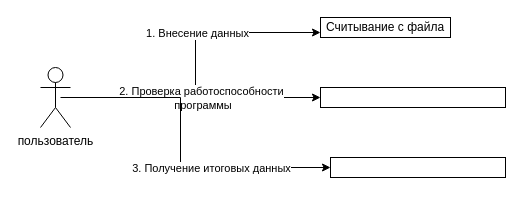
This 523x203 diagram has some shape labels left out. Here are the shapes that lost their labels. From the top down, the centre of each, then its label:
At point 413,97: "Нахождение критического пути".
At point 418,167: "Занесение результата в файл".
